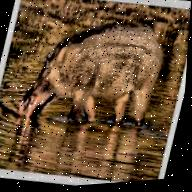boar: (7, 4, 173, 152)
